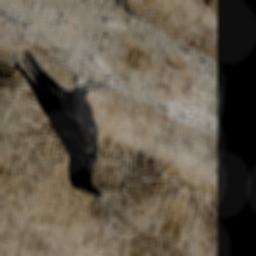Crow: (0, 40, 137, 202)
